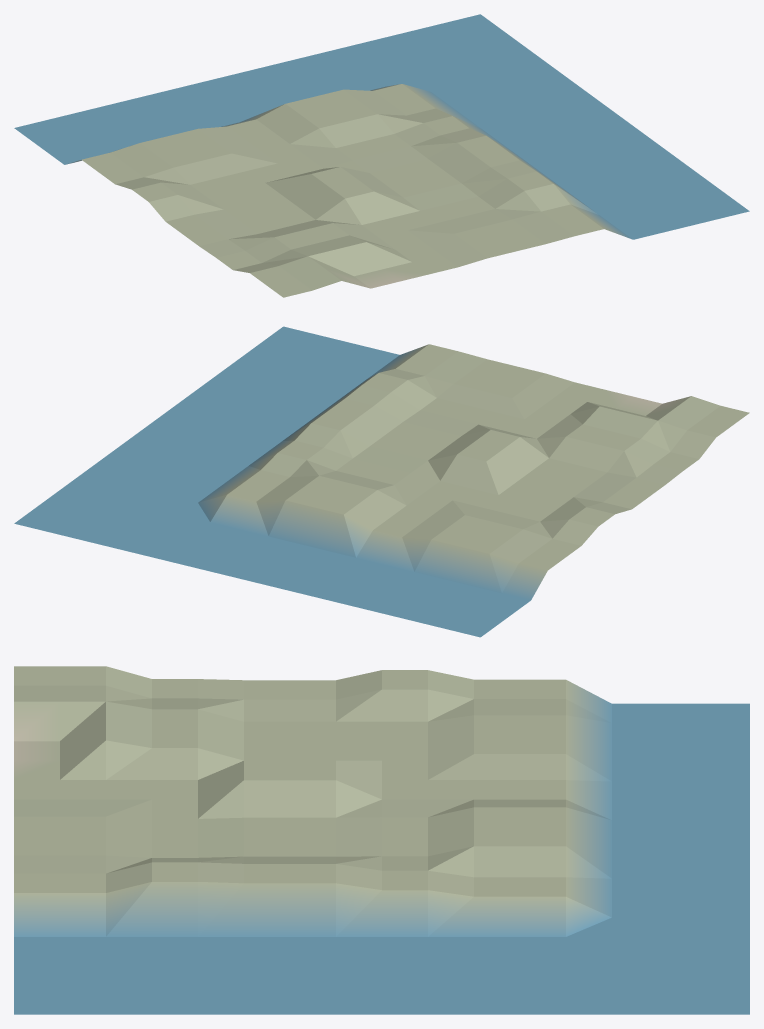
3 renders of one model, top to bottom at view 1: azimuth 30°, elevation 25°; view 2: azimuth 150°, elevation 25°; view 3: azimuth 270°, elevation 25°, orthographic. The views are drawn at different scales.
Size of the model in its own units: 32 by 1.97 by 32.
